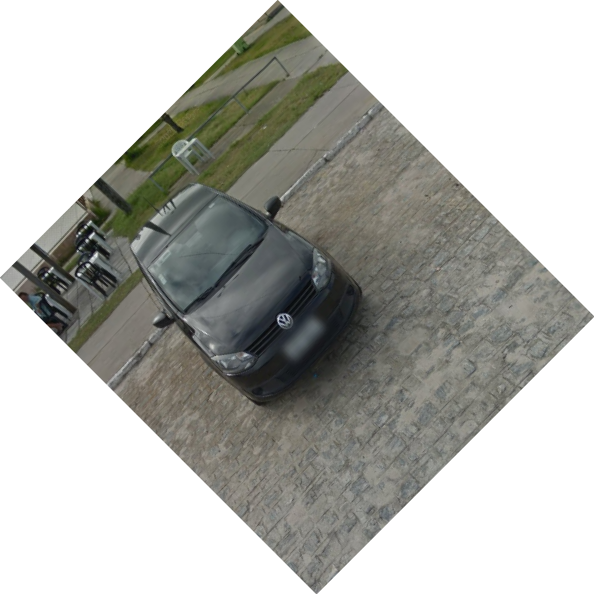car: (130, 182, 367, 408)
